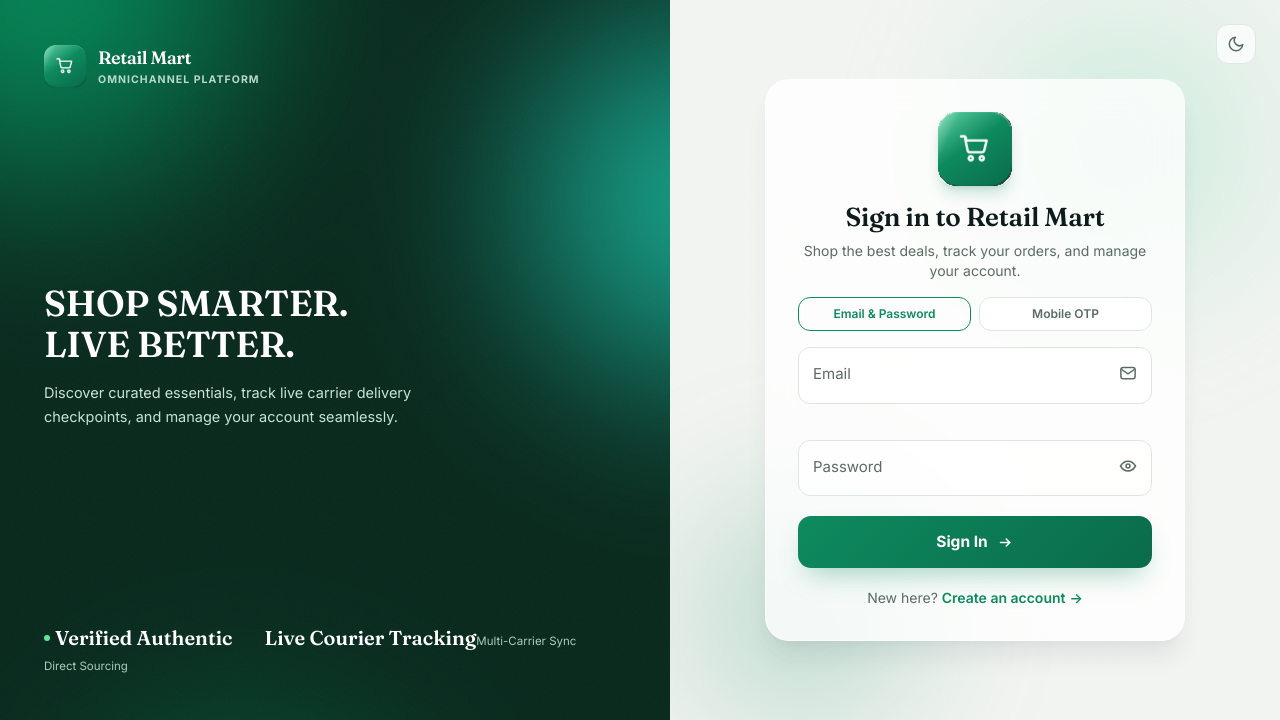
Simplified Authentication UI & RBAC Flow › 5. Switching tabs between Email & Password and Mobile OTP works smoothly
The width and height of the screenshot is (1280, 720).
What coordinates should you click on to do the following:
click the button "Mobile OTP"
I would click on:
 (1066, 314)
Its box is [979,297,1152,331].
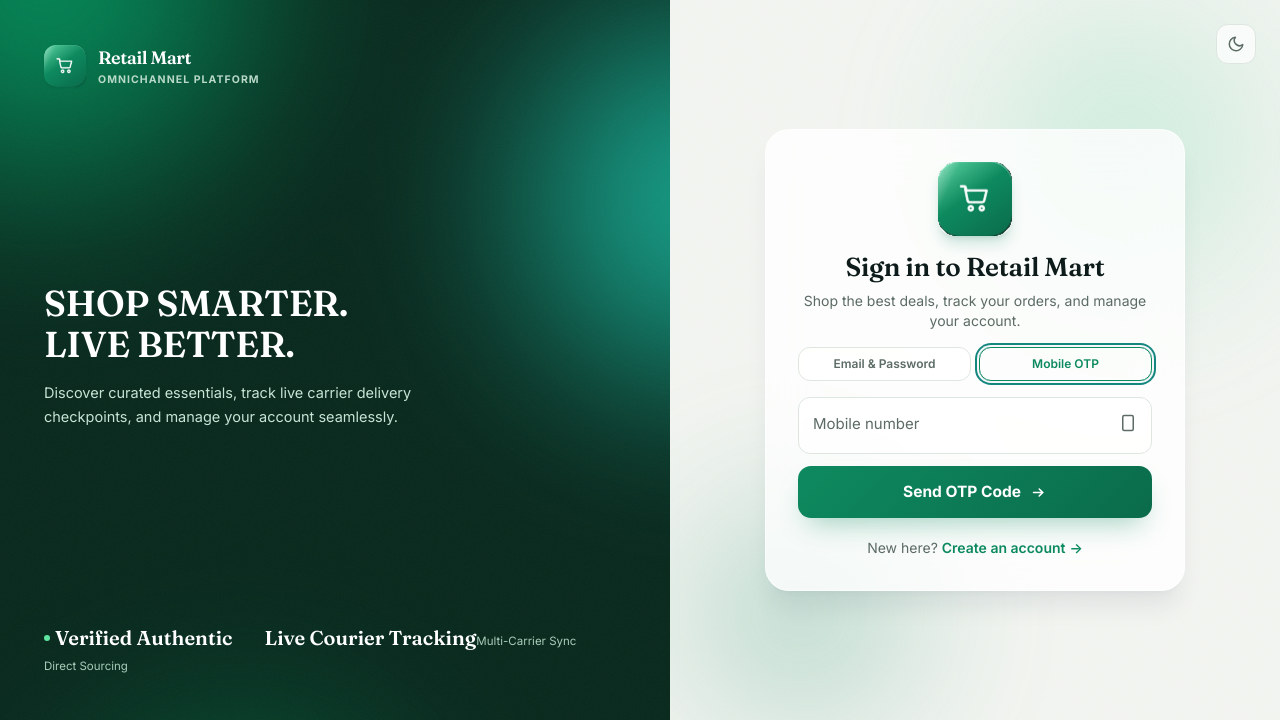
Expected: the field labelled "Mobile number" is shown, [798,397,1152,454]
Expected: the button "Send OTP Code" is shown, [798,466,1152,518]
What coordinates should you click on to do the following:
click the button "Email & Password"
I would click on:
 (885, 364)
Its box is [798,347,971,381].
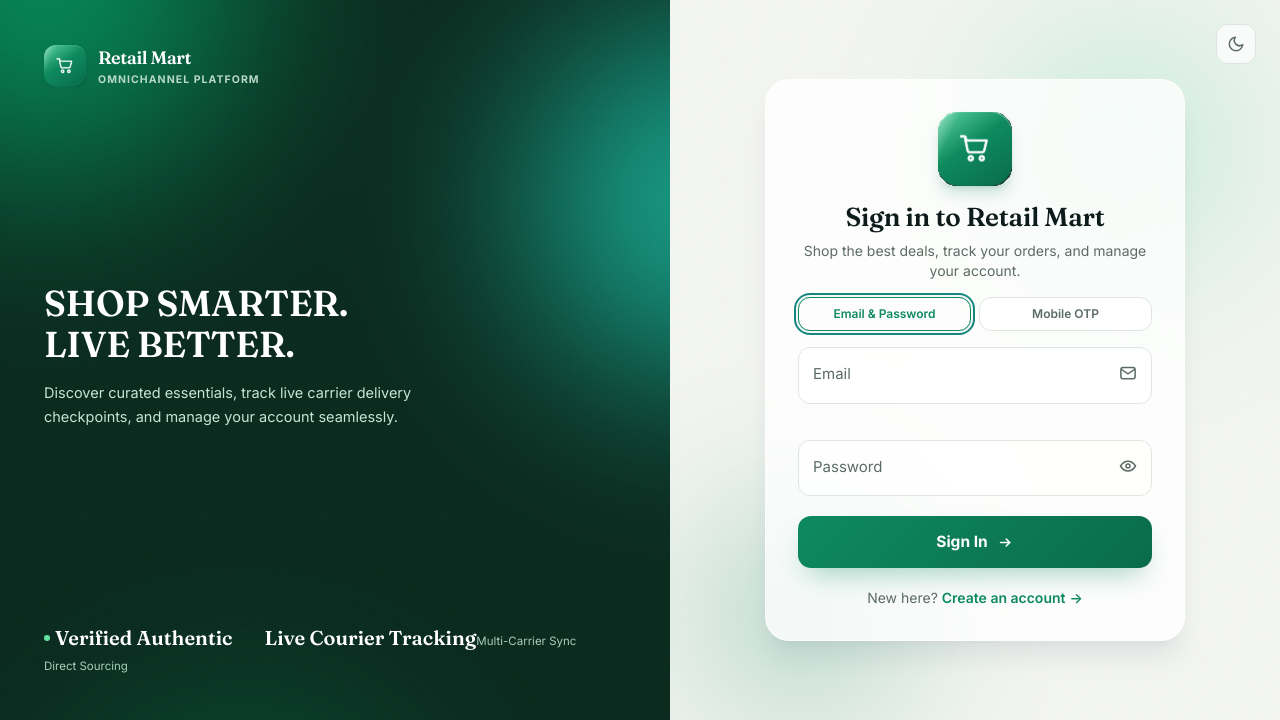
Expected: the field labelled "Email" is shown, [798,347,1152,404]
